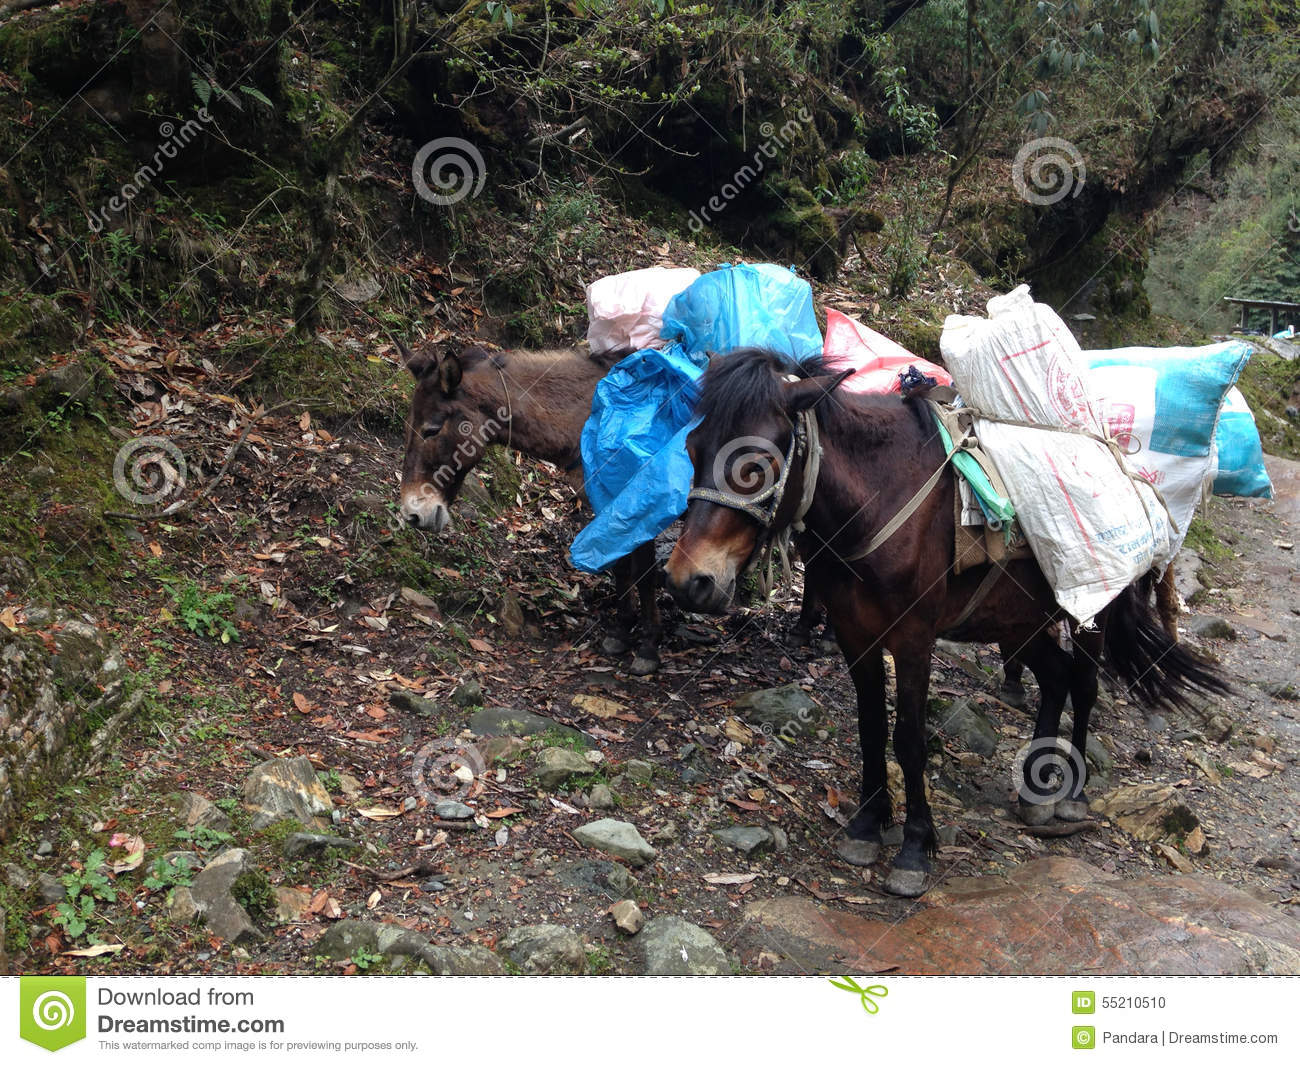equine: (647, 338, 1206, 901), (333, 319, 784, 520)
